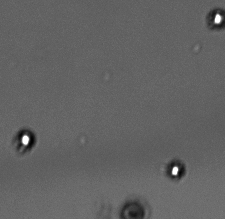Dead Cell: (121, 201, 147, 217)
Living Cell: (14, 128, 36, 151), (166, 157, 184, 180), (207, 7, 224, 28)
